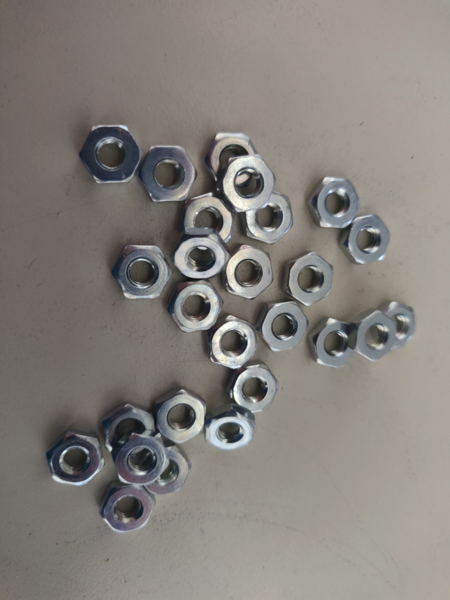nut: (78, 125, 141, 185), (112, 244, 172, 302), (44, 431, 106, 486), (97, 482, 159, 535), (151, 389, 207, 446), (141, 146, 198, 200), (172, 282, 226, 335), (208, 317, 260, 372), (282, 252, 335, 305), (113, 439, 168, 490), (226, 155, 275, 212), (223, 246, 274, 300), (173, 230, 228, 280), (308, 177, 358, 232), (257, 302, 308, 355), (242, 192, 293, 244), (186, 194, 237, 244), (146, 446, 196, 497), (341, 215, 390, 267), (228, 366, 278, 416), (207, 135, 258, 184), (312, 316, 355, 370), (105, 405, 153, 452), (354, 312, 397, 364), (208, 406, 256, 452), (385, 300, 416, 350)
